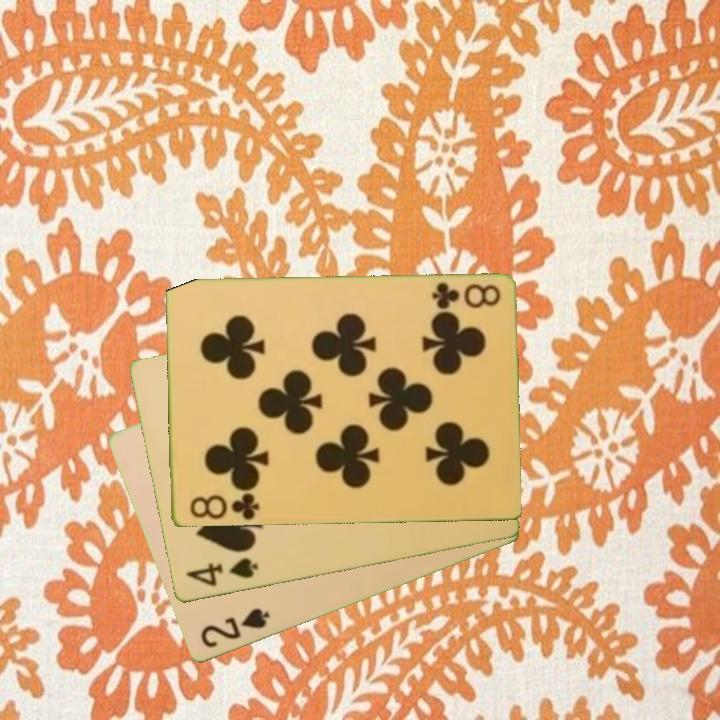2s: (197, 605, 273, 652)
4s: (181, 554, 261, 591)
8c: (186, 487, 262, 523), (427, 279, 502, 312)
